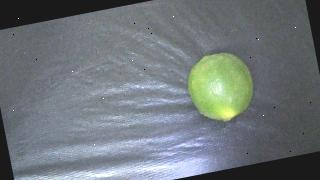LOCAL: (183, 48, 259, 127)
